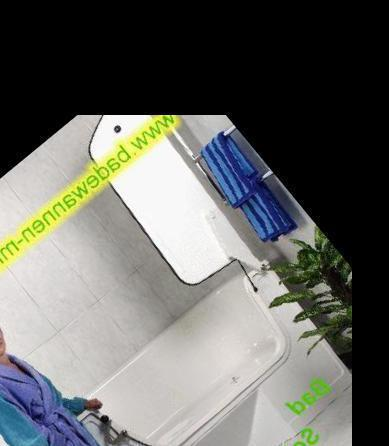Matera: (250, 222, 389, 421)
